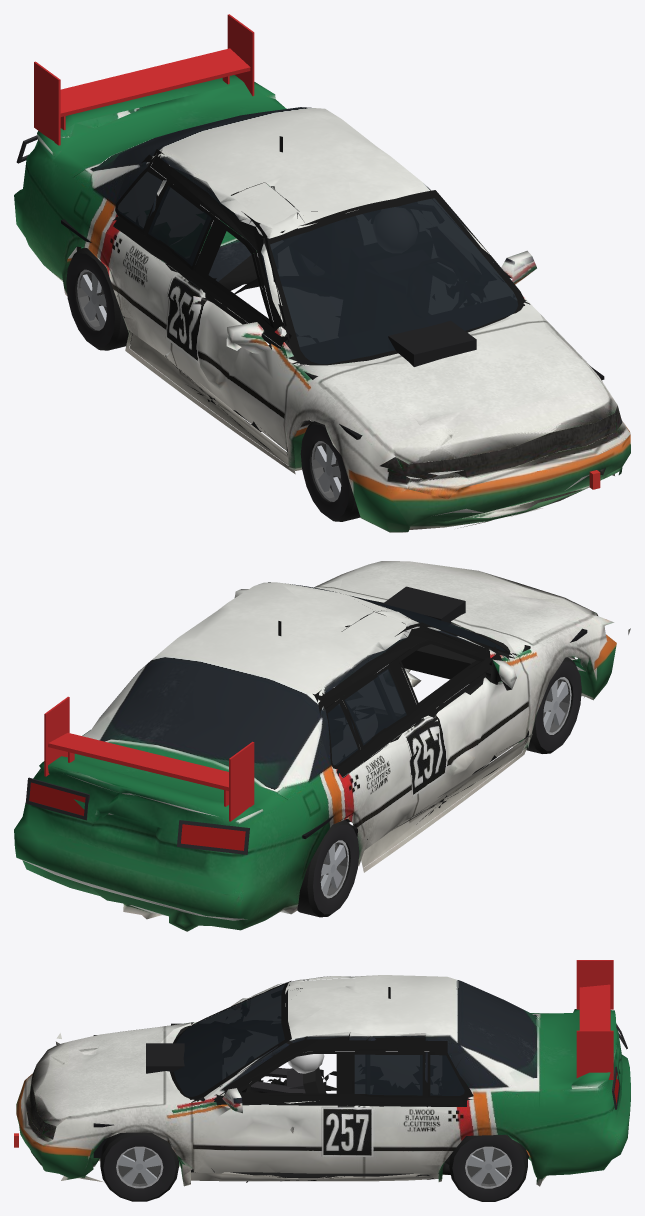
3 views of the same model, one above another, from view 1: azimuth 30°, elevation 25°; view 2: azimuth 150°, elevation 25°; view 3: azimuth 270°, elevation 25° (orthographic). The views are drawn at different scales.
Visible parts, largest first — view 1: body, wheel_rr, wheel_fr; view 2: body, wheel_rr, wheel_fr; view 3: body, wheel_fl, wheel_rl.
Boxes of the visible parts, x1,y1,x2,y2 form: body: (14,14,630,532); wheel_rr: (66,247,132,350); wheel_fr: (300,421,360,521); body: (14,561,630,931); wheel_rr: (297,820,359,917); wheel_fr: (523,657,581,753); body: (14,960,630,1186); wheel_fl: (100,1132,178,1201); wheel_rl: (449,1134,527,1201).
Bounding box in the file's own units: 2.02 × 1.47 × 4.81.
2 materials, 1 textured.
